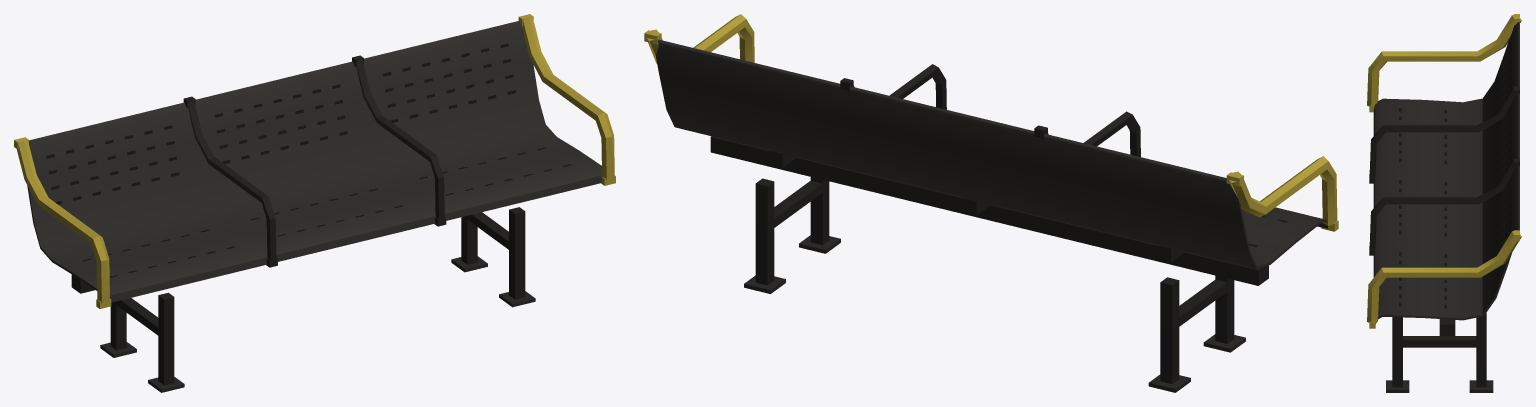
File: station_bench.glb
3 renders of one model, left to right at view 1: azimuth 30°, elevation 25°; view 2: azimuth 150°, elevation 25°; view 3: azimuth 270°, elevation 25°, orthographic. The views are drawn at different scales.
Parts seen in each view (by area): view 1: station_bench; view 2: station_bench; view 3: station_bench.
Part boxes in pixels (x1,y1,x2,y2): station_bench: (14, 14, 615, 392); station_bench: (644, 14, 1338, 392); station_bench: (1367, 14, 1521, 392).
Size of the model in its own units: 2 by 0.7988 by 0.5924.
